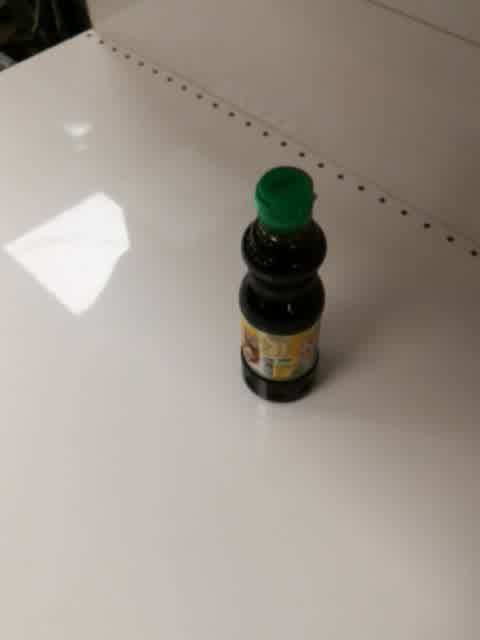cookingoil: (233, 161, 332, 408)
